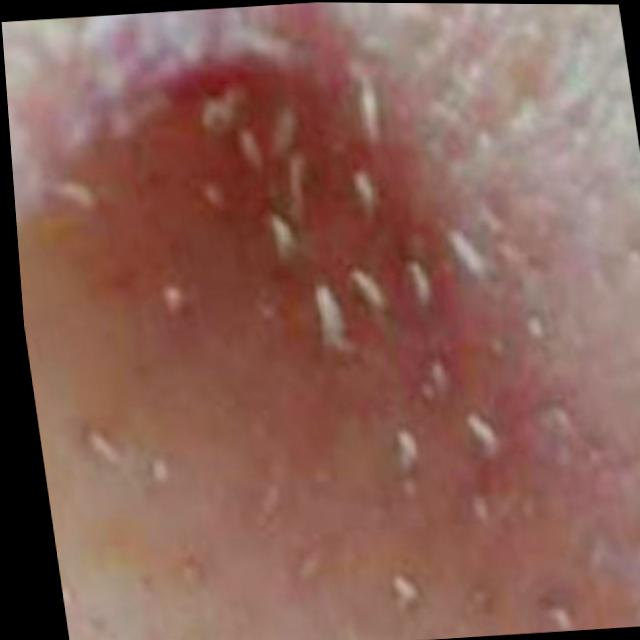whitehead: (13, 2, 640, 630)
